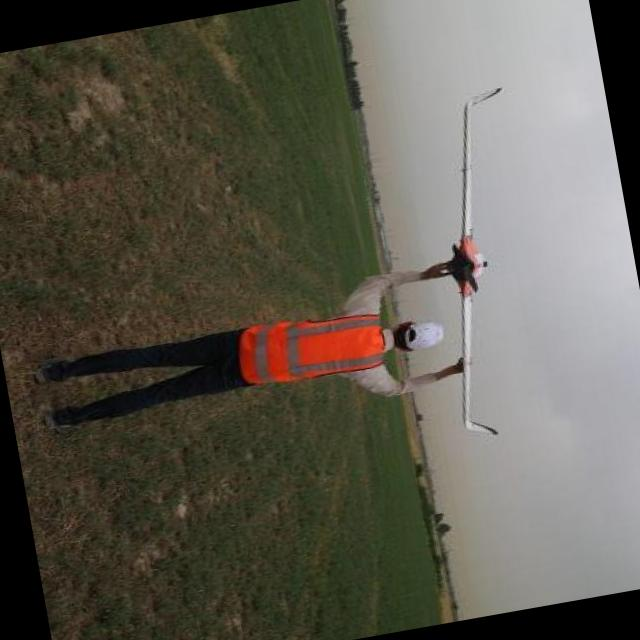UAV: (405, 92, 541, 458)
